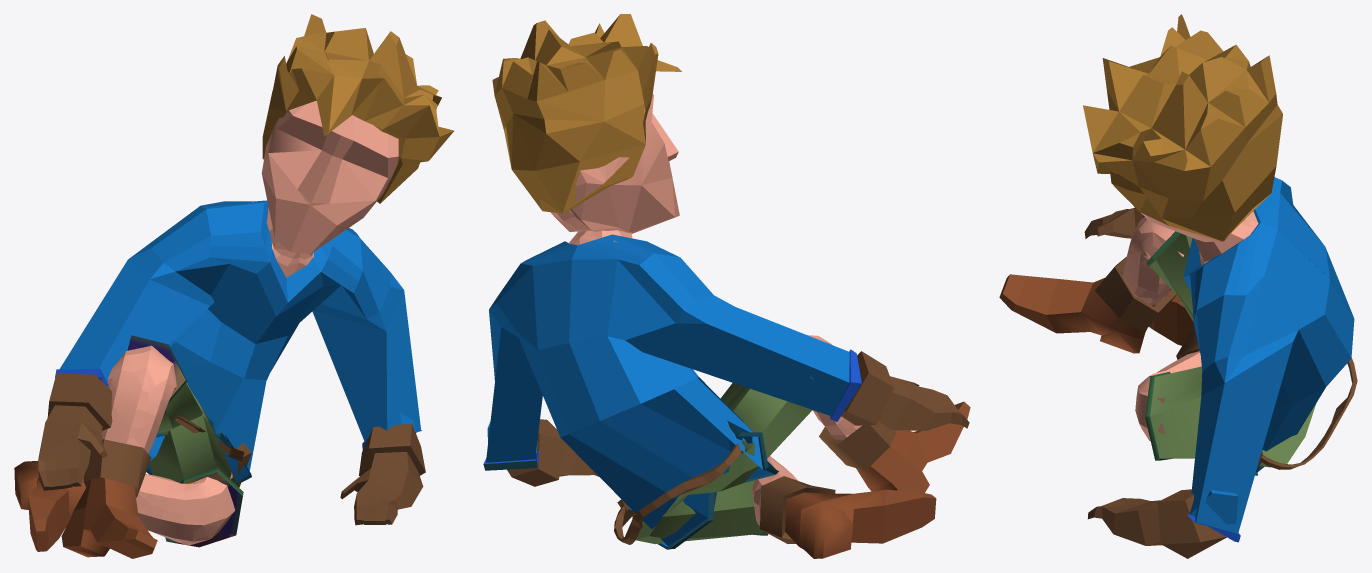
The model's file is dashBackwardRight5.obj.
3 views of the same model, side by side, from view 1: azimuth 30°, elevation 25°; view 2: azimuth 150°, elevation 25°; view 3: azimuth 270°, elevation 25° (orthographic). The views are drawn at different scales.
Parts seen in each view (by area): view 1: Jacket__jaket_Cylinder.001_Jacket__jaket_Cylinder.001_P_e8d5c2c_, Hair_Hair__Cube.000_Hair_Hair__Cube.000_PlayerMaterialOfficial_H, Head_Head_Cube.000_Head_Head_Cube.000_PlayerMaterialOfficial_Hea, Humanoide_Body_Base_Modified_Humanoide_Base_Base_NPC__c_7f84192_, Boot_left_bota_Cube.001_Boot_left_bota_Cube.001_PlayerM_5d38611_, Globe_left_globe_Cylinder.001_Globe_left_globe_Cylinder_383ca3a_, Trausers_trausers_Cylinder.000_Trausers_trausers_Cylind_bfdf796_, Globe_right_globe_Cylinder.005_Globe_right_globe_Cylind_70ee9c7_, Boot_right_bota_Cube.000_Boot_right_bota_Cube.000_Playe_7d61669_; view 2: Jacket__jaket_Cylinder.001_Jacket__jaket_Cylinder.001_P_e8d5c2c_, Hair_Hair__Cube.000_Hair_Hair__Cube.000_PlayerMaterialOfficial_H, Boot_right_bota_Cube.000_Boot_right_bota_Cube.000_Playe_7d61669_, Trausers_trausers_Cylinder.000_Trausers_trausers_Cylind_bfdf796_, Head_Head_Cube.000_Head_Head_Cube.000_PlayerMaterialOfficial_Hea, Boot_left_bota_Cube.001_Boot_left_bota_Cube.001_PlayerM_5d38611_, Globe_left_globe_Cylinder.001_Globe_left_globe_Cylinder_383ca3a_, Globe_right_globe_Cylinder.005_Globe_right_globe_Cylind_70ee9c7_, Belt_Cylinder.001_Belt_Cylinder.001_PlayerMaterialOfficial_Belt_, Humanoide_Body_Base_Modified_Humanoide_Base_Base_NPC__c_7f84192_; view 3: Jacket__jaket_Cylinder.001_Jacket__jaket_Cylinder.001_P_e8d5c2c_, Hair_Hair__Cube.000_Hair_Hair__Cube.000_PlayerMaterialOfficial_H, Boot_left_bota_Cube.001_Boot_left_bota_Cube.001_PlayerM_5d38611_, Trausers_trausers_Cylinder.000_Trausers_trausers_Cylind_bfdf796_, Globe_right_globe_Cylinder.005_Globe_right_globe_Cylind_70ee9c7_, Humanoide_Body_Base_Modified_Humanoide_Base_Base_NPC__c_7f84192_, Boot_right_bota_Cube.000_Boot_right_bota_Cube.000_Playe_7d61669_, Globe_left_globe_Cylinder.001_Globe_left_globe_Cylinder_383ca3a_, Belt_Cylinder.001_Belt_Cylinder.001_PlayerMaterialOfficial_Belt_.
Part boxes in pixels (left/top/right/bottom): Jacket__jaket_Cylinder.001_Jacket__jaket_Cylinder.001_P_e8d5c2c_: left=55, top=200, right=422, bottom=483; Hair_Hair__Cube.000_Hair_Hair__Cube.000_PlayerMaterialOfficial_H: left=262, top=14, right=453, bottom=203; Head_Head_Cube.000_Head_Head_Cube.000_PlayerMaterialOfficial_Hea: left=261, top=100, right=398, bottom=253; Humanoide_Body_Base_Modified_Humanoide_Base_Base_NPC__c_7f84192_: left=101, top=202, right=313, bottom=545; Boot_left_bota_Cube.001_Boot_left_bota_Cube.001_PlayerM_5d38611_: left=61, top=439, right=157, bottom=558; Globe_left_globe_Cylinder.001_Globe_left_globe_Cylinder_383ca3a_: left=38, top=373, right=112, bottom=490; Trausers_trausers_Cylinder.000_Trausers_trausers_Cylind_bfdf796_: left=127, top=335, right=243, bottom=547; Globe_right_globe_Cylinder.005_Globe_right_globe_Cylind_70ee9c7_: left=340, top=423, right=425, bottom=525; Boot_right_bota_Cube.000_Boot_right_bota_Cube.000_Playe_7d61669_: left=14, top=461, right=86, bottom=551; Jacket__jaket_Cylinder.001_Jacket__jaket_Cylinder.001_P_e8d5c2c_: left=483, top=234, right=861, bottom=549; Hair_Hair__Cube.000_Hair_Hair__Cube.000_PlayerMaterialOfficial_H: left=492, top=14, right=681, bottom=213; Boot_right_bota_Cube.000_Boot_right_bota_Cube.000_Playe_7d61669_: left=760, top=476, right=936, bottom=558; Trausers_trausers_Cylinder.000_Trausers_trausers_Cylind_bfdf796_: left=633, top=383, right=812, bottom=544; Head_Head_Cube.000_Head_Head_Cube.000_PlayerMaterialOfficial_Hea: left=551, top=94, right=679, bottom=233; Boot_left_bota_Cube.001_Boot_left_bota_Cube.001_PlayerM_5d38611_: left=819, top=401, right=970, bottom=492; Globe_left_globe_Cylinder.001_Globe_left_globe_Cylinder_383ca3a_: left=841, top=351, right=969, bottom=430; Globe_right_globe_Cylinder.005_Globe_right_globe_Cylind_70ee9c7_: left=507, top=419, right=598, bottom=486; Belt_Cylinder.001_Belt_Cylinder.001_PlayerMaterialOfficial_Belt_: left=614, top=442, right=741, bottom=544; Humanoide_Body_Base_Modified_Humanoide_Base_Base_NPC__c_7f84192_: left=568, top=230, right=861, bottom=525; Jacket__jaket_Cylinder.001_Jacket__jaket_Cylinder.001_P_e8d5c2c_: left=1183, top=177, right=1354, bottom=542; Hair_Hair__Cube.000_Hair_Hair__Cube.000_PlayerMaterialOfficial_H: left=1083, top=14, right=1282, bottom=241; Boot_left_bota_Cube.001_Boot_left_bota_Cube.001_PlayerM_5d38611_: left=999, top=256, right=1176, bottom=353; Trausers_trausers_Cylinder.000_Trausers_trausers_Cylind_bfdf796_: left=1145, top=231, right=1316, bottom=467; Globe_right_globe_Cylinder.005_Globe_right_globe_Cylind_70ee9c7_: left=1087, top=489, right=1226, bottom=558; Humanoide_Body_Base_Modified_Humanoide_Base_Base_NPC__c_7f84192_: left=1122, top=211, right=1258, bottom=441; Boot_right_bota_Cube.000_Boot_right_bota_Cube.000_Playe_7d61669_: left=1149, top=295, right=1199, bottom=359; Globe_left_globe_Cylinder.001_Globe_left_globe_Cylinder_383ca3a_: left=1084, top=207, right=1144, bottom=238; Belt_Cylinder.001_Belt_Cylinder.001_PlayerMaterialOfficial_Belt_: left=1261, top=358, right=1357, bottom=469.
Size of the model in its own units: 24.53 by 25.26 by 16.75.
